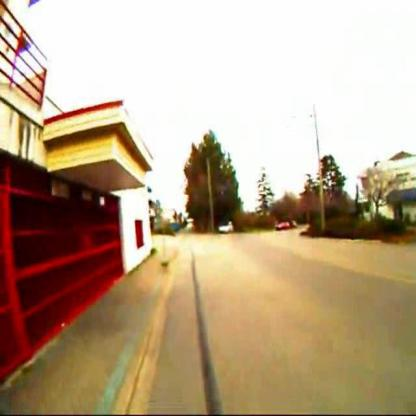other: (131, 127, 193, 245), (42, 132, 149, 197)
